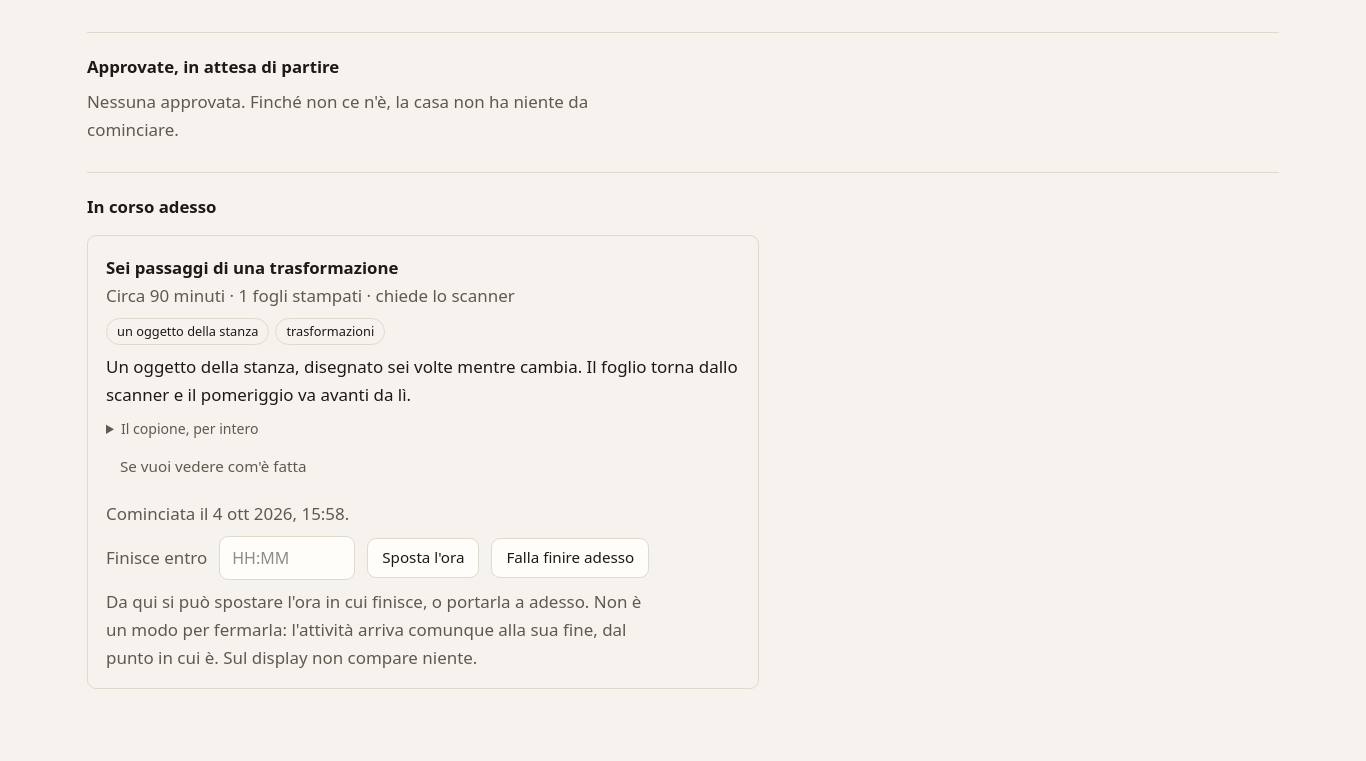
Test case: an afternoon the house has begun › records the hour the parent chose and nothing else
(page scrolled)
Type "17:30" into the field labelled "Finisce entro" at (287, 558), box [219,536,355,580]
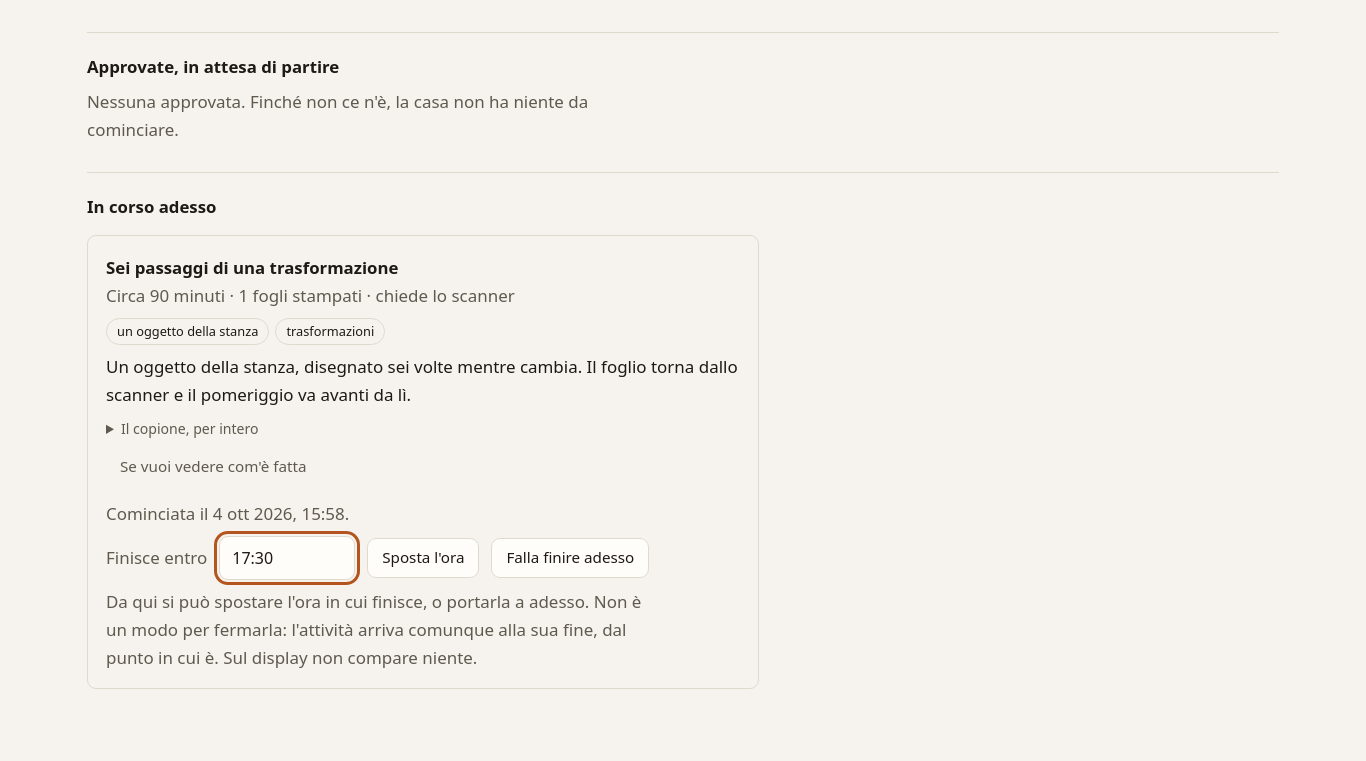
Click the button "Sposta l'ora" at (423, 558), box [367,538,480,578]
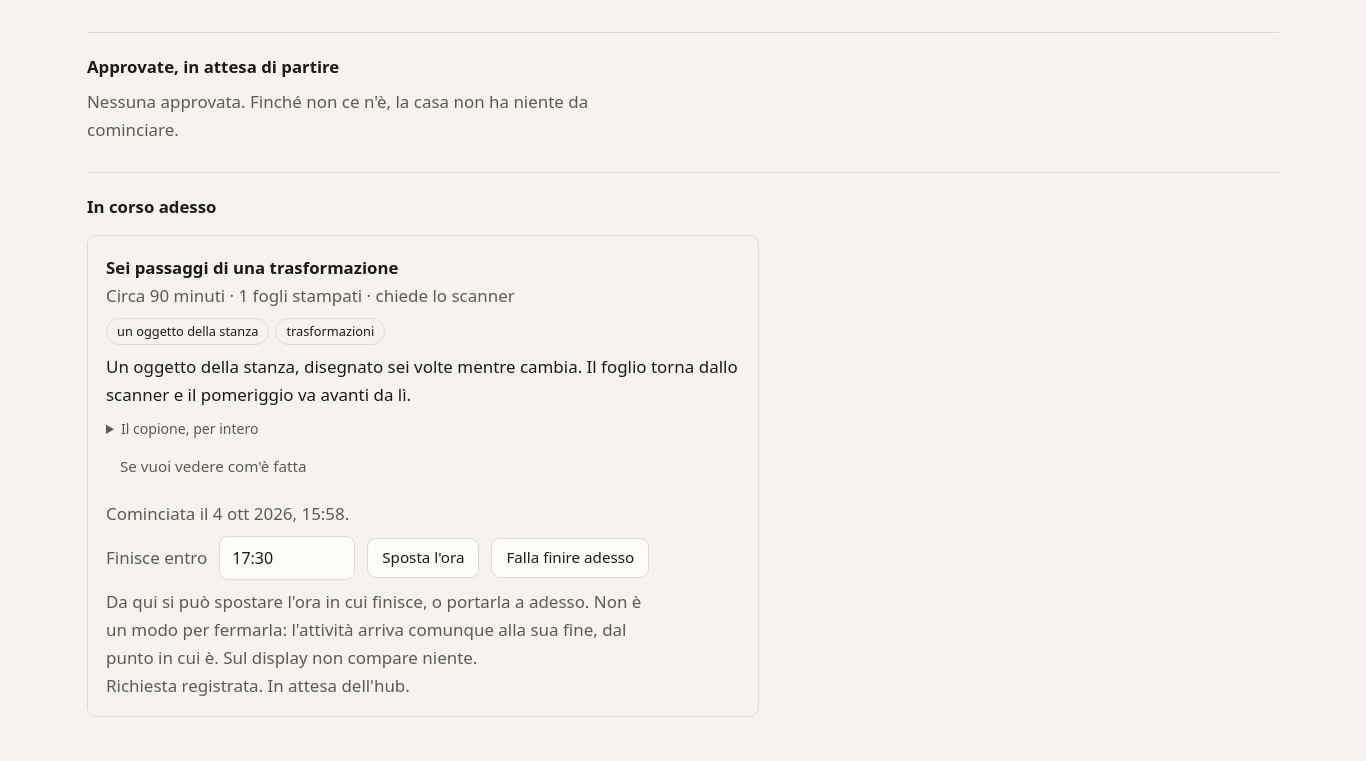
Expected: the text "Richiesta registrata. In attesa dell'hub." is shown, [106,674,410,697]
